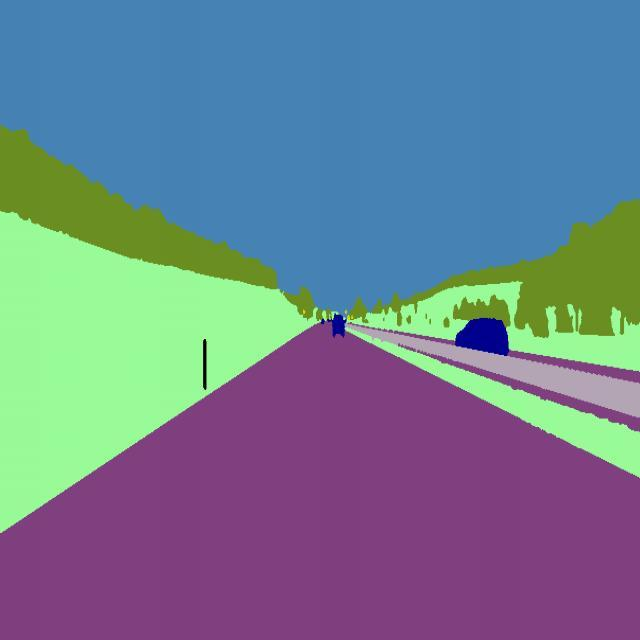safe: (449, 304, 514, 362), (328, 308, 351, 344)
